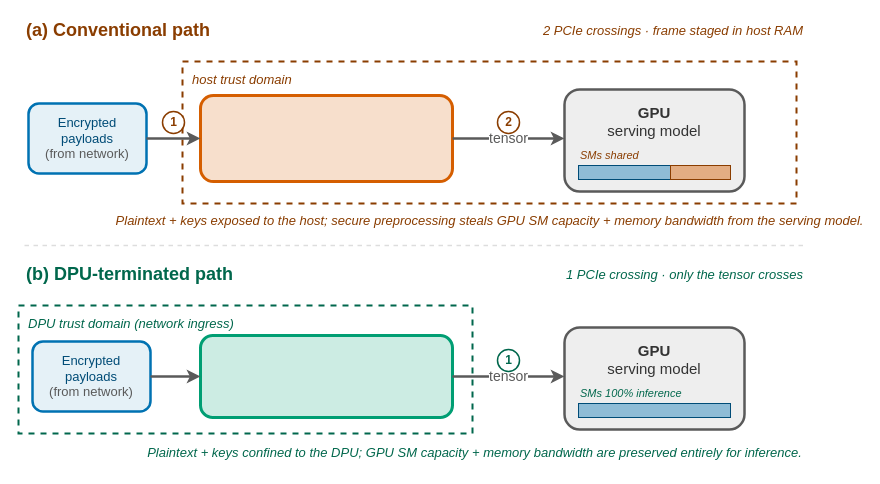
Image size: 880x484. Some labels were removed from this diagram. Here are the shapes that lost their labels. From the top down, the centre of each, then its label:
At [326,138]: "Host CPU / GPU authenticate · decrypt · preprocess".
At [326,376]: "DPU Arm cores authenticate · decrypt · preprocess".
